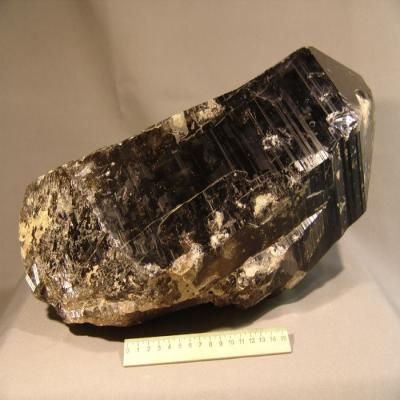mineralogy: (18, 46, 375, 330)
